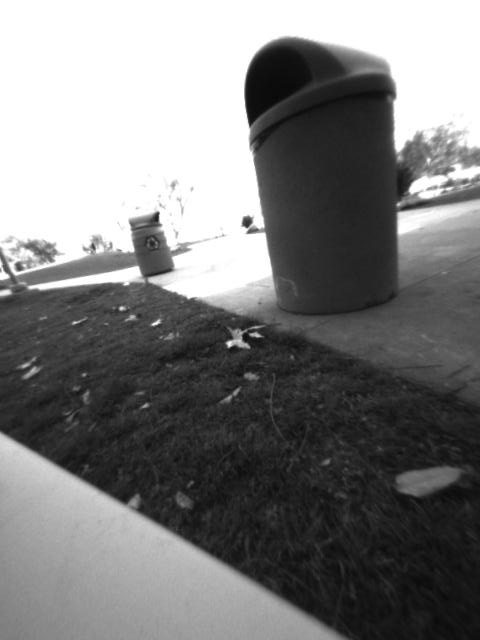trashcan: (231, 27, 416, 323)
